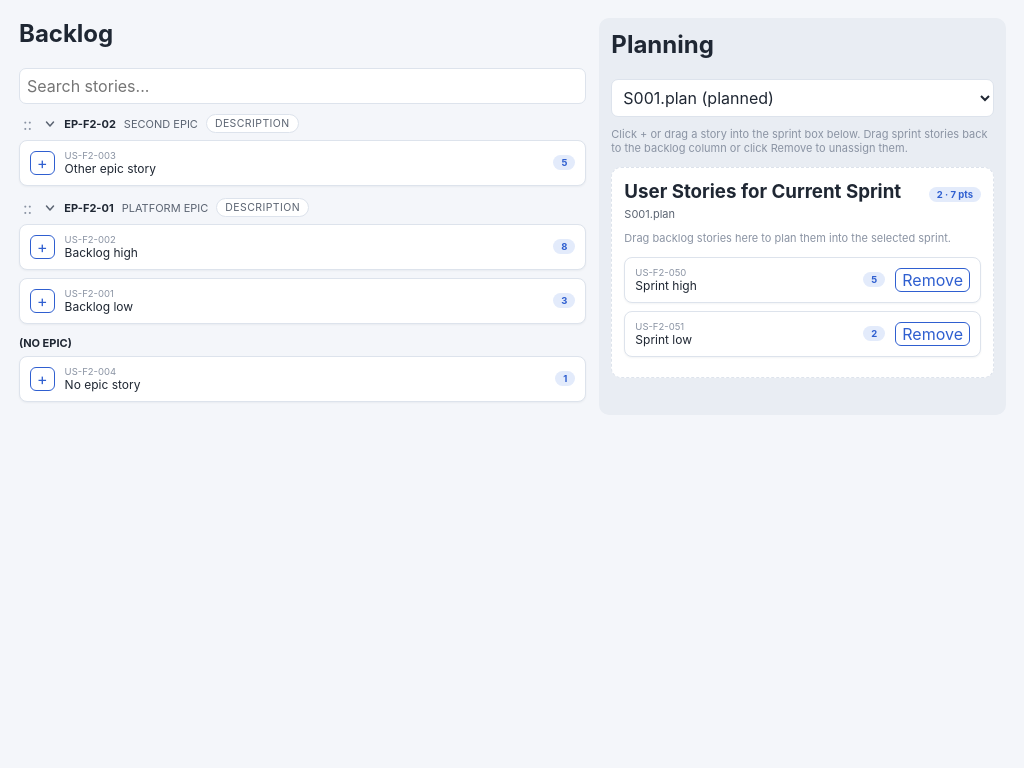
it: BacklogView › keeps the no epic group out of epic fetching and epic sorting
Expected: the element with test id "epic-section-no-epic" is shown, [19,336,586,402]
Expected: the text "(no epic)" is shown, [19,336,72,350]
Click the text "No epic story": (103, 384) [65,377,140,392]
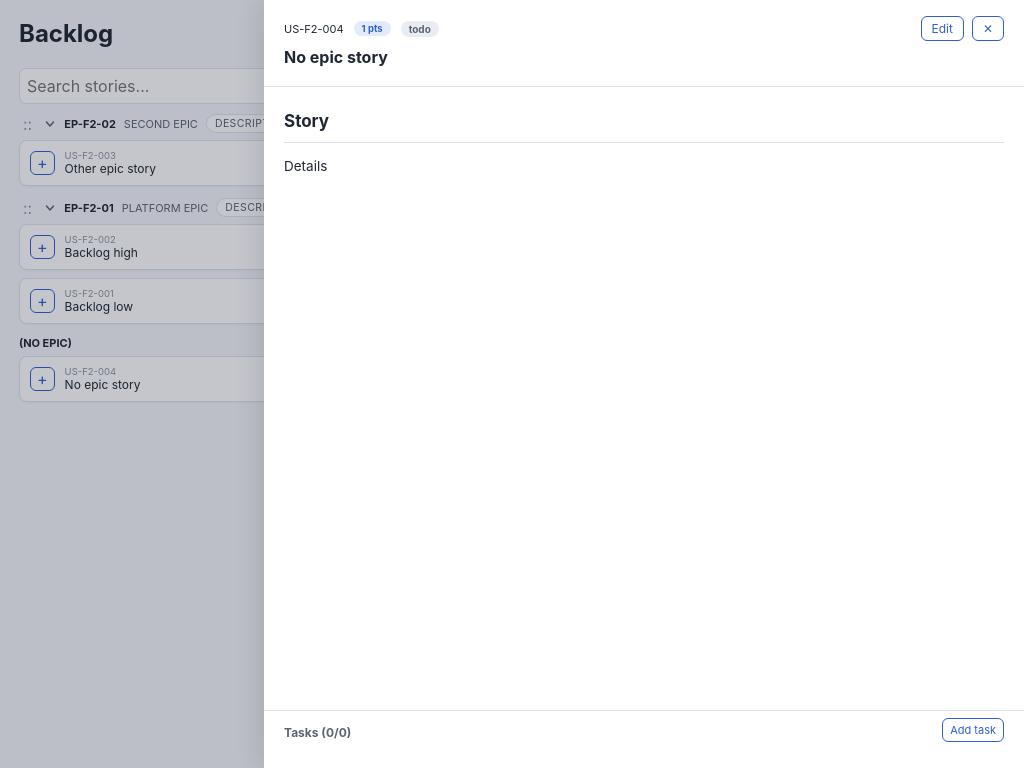
Expected: the text "Details" is shown, [284,158,327,174]
